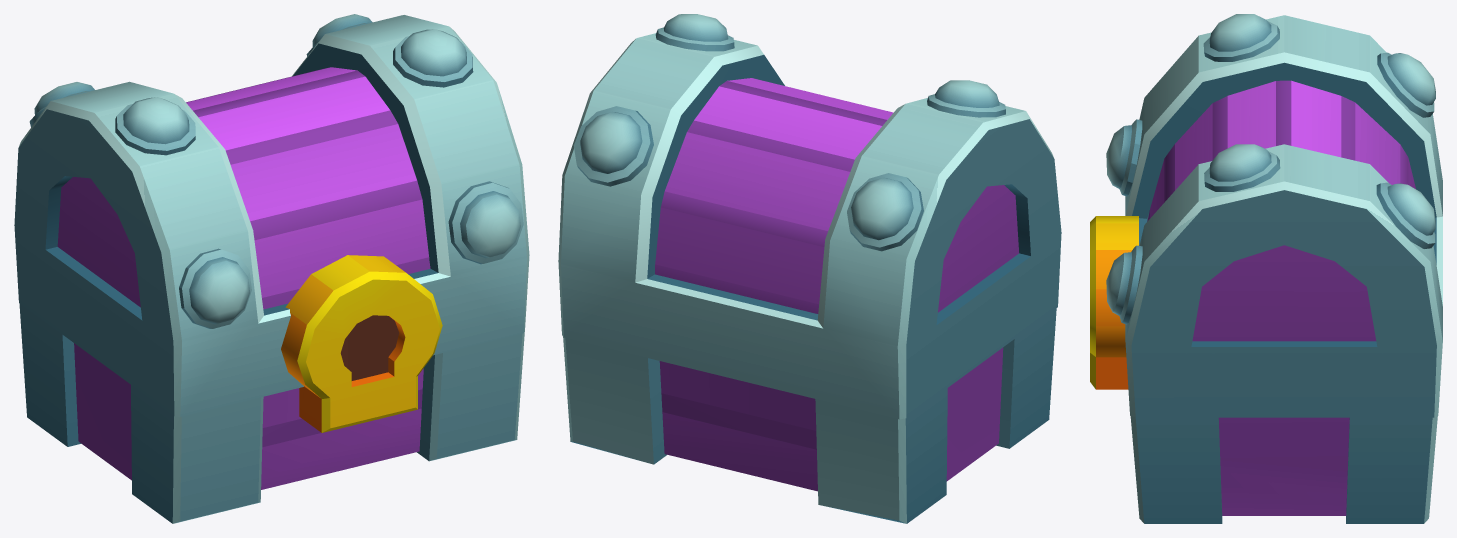
The model's file is Chest_02.fbx.
3 renders of one model, left to right at view 1: azimuth 30°, elevation 25°; view 2: azimuth 150°, elevation 25°; view 3: azimuth 270°, elevation 25°, orthographic. The views are drawn at different scales.
Visible parts, largest first — view 1: Chest_Color_02, Chest_Color_01, Chest_Color_03; view 2: Chest_Color_02, Chest_Color_01; view 3: Chest_Color_02, Chest_Color_01, Chest_Color_03.
Part boxes in pixels (left/top/right/bottom): Chest_Color_02: left=14, top=14, right=529, bottom=416; Chest_Color_01: left=19, top=303, right=524, bottom=523; Chest_Color_03: left=281, top=255, right=442, bottom=432; Chest_Color_02: left=558, top=14, right=1061, bottom=419; Chest_Color_01: left=563, top=308, right=1056, bottom=523; Chest_Color_02: left=1106, top=14, right=1442, bottom=417; Chest_Color_01: left=1130, top=416, right=1437, bottom=523; Chest_Color_03: left=1090, top=216, right=1138, bottom=389.
Bounding box in the file's own units: 110 × 108 × 95.59.
